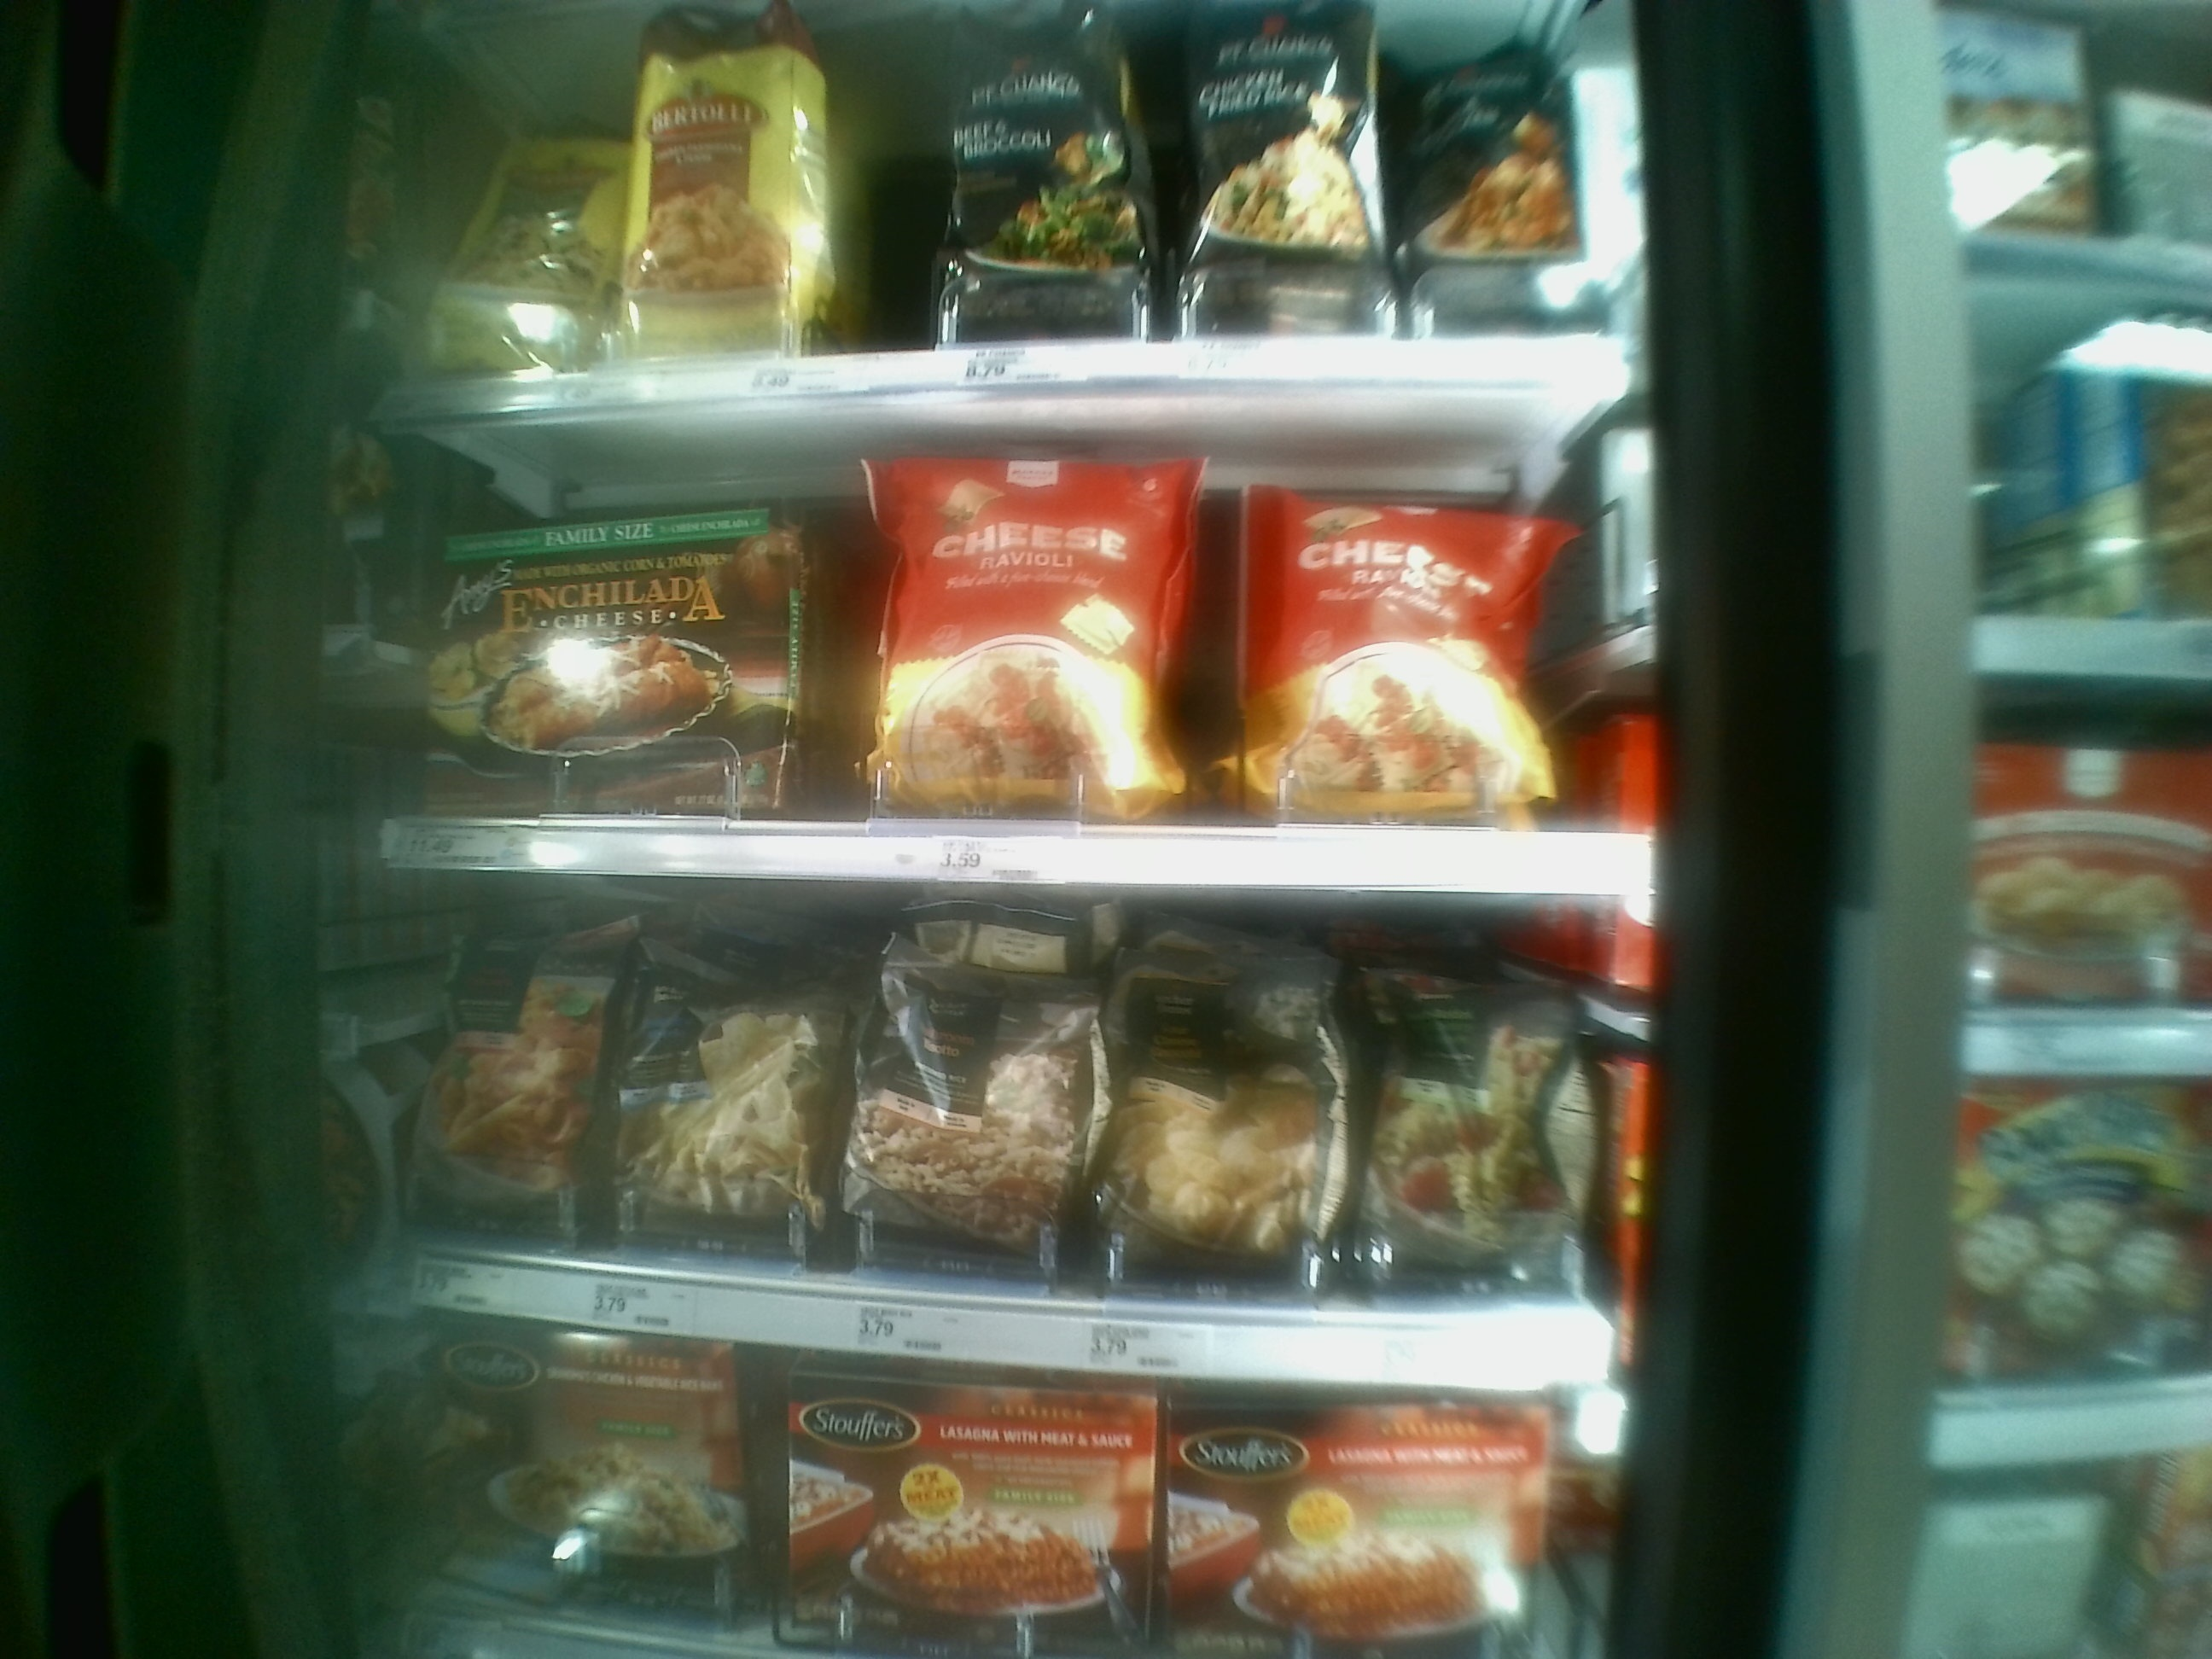shelf: (383, 396, 1656, 897), (388, 871, 1658, 1354)
